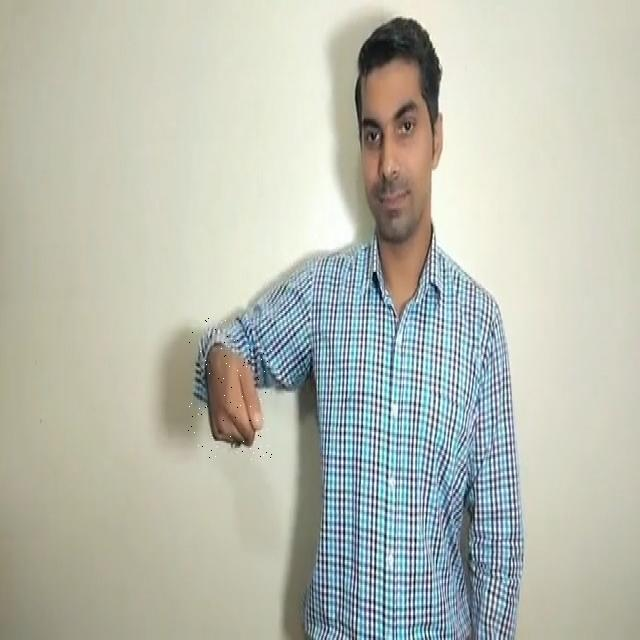bag: (187, 316, 273, 460)
